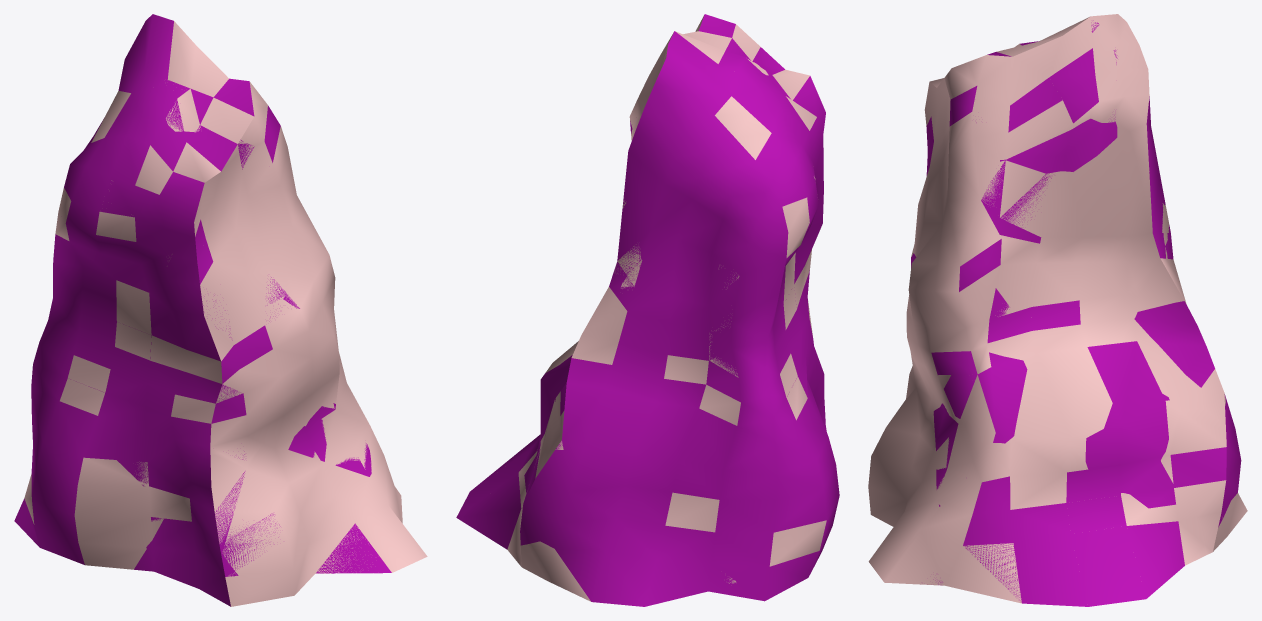
The model's file is Broken-Rock-1.fbx.
3 views of the same model, side by side, from view 1: azimuth 30°, elevation 25°; view 2: azimuth 150°, elevation 25°; view 3: azimuth 270°, elevation 25° (orthographic). The views are drawn at different scales.
Parts seen in each view (by area): view 1: Big-Rock-1, Big-Rock-004-Broken_v_034, Big-Rock-004-Broken_v_064, Big-Rock-004-Broken_v_013, Big-Rock-004-Broken_v_056, Big-Rock-004-Broken_v_012, Big-Rock-004-Broken_v_046, Big-Rock-004-Broken_v_033, Big-Rock-004-Broken_v_036, Big-Rock-004-Broken_v_010, Big-Rock-004-Broken_v_021, Big-Rock-004-Broken_v_031 (+12 smaller); view 2: Big-Rock-1, Big-Rock-004-Broken_v_008, Big-Rock-004-Broken_v_018, Big-Rock-004-Broken_v_013, Big-Rock-004-Broken_v_033, Big-Rock-004-Broken_v_072, Big-Rock-004-Broken_v_062, Big-Rock-004-Broken_v_047, Big-Rock-004-Broken_v_030, Big-Rock-004-Broken_v_063, Big-Rock-004-Broken_v_037, Big-Rock-004-Broken_v_040 (+3 smaller); view 3: Big-Rock-1, Big-Rock-004-Broken_v_035, Big-Rock-004-Broken_v_033, Big-Rock-004-Broken_v_036, Big-Rock-004-Broken_v_001, Big-Rock-004-Broken_v_009, Big-Rock-004-Broken_v_034, Big-Rock-004-Broken_v_023, Big-Rock-004-Broken_v_004, Big-Rock-004-Broken_v_039, Big-Rock-004-Broken_v_012, Big-Rock-004-Broken_v_032 (+25 smaller).
Part boxes in pixels (bbox=[...]): Big-Rock-1: bbox=[14, 14, 391, 606]; Big-Rock-004-Broken_v_034: bbox=[222, 438, 308, 601]; Big-Rock-004-Broken_v_064: bbox=[288, 450, 421, 579]; Big-Rock-004-Broken_v_013: bbox=[24, 457, 164, 569]; Big-Rock-004-Broken_v_056: bbox=[200, 216, 296, 333]; Big-Rock-004-Broken_v_012: bbox=[227, 134, 310, 259]; Big-Rock-004-Broken_v_046: bbox=[228, 299, 313, 418]; Big-Rock-004-Broken_v_033: bbox=[166, 21, 283, 134]; Big-Rock-004-Broken_v_036: bbox=[284, 258, 339, 371]; Big-Rock-004-Broken_v_010: bbox=[172, 331, 269, 418]; Big-Rock-004-Broken_v_021: bbox=[166, 128, 254, 236]; Big-Rock-004-Broken_v_031: bbox=[163, 406, 249, 543]; Big-Rock-1: bbox=[456, 14, 839, 606]; Big-Rock-004-Broken_v_008: bbox=[518, 498, 736, 601]; Big-Rock-004-Broken_v_018: bbox=[665, 355, 803, 425]; Big-Rock-004-Broken_v_013: bbox=[769, 520, 826, 566]; Big-Rock-004-Broken_v_033: bbox=[667, 15, 768, 75]; Big-Rock-004-Broken_v_072: bbox=[571, 329, 619, 364]; Big-Rock-004-Broken_v_062: bbox=[723, 96, 787, 137]; Big-Rock-004-Broken_v_047: bbox=[784, 273, 807, 405]; Big-Rock-004-Broken_v_030: bbox=[603, 259, 670, 356]; Big-Rock-004-Broken_v_063: bbox=[664, 369, 719, 522]; Big-Rock-004-Broken_v_037: bbox=[741, 136, 808, 216]; Big-Rock-004-Broken_v_040: bbox=[785, 211, 809, 257]; Big-Rock-1: bbox=[911, 20, 1241, 606]; Big-Rock-004-Broken_v_035: bbox=[882, 490, 1030, 603]; Big-Rock-004-Broken_v_033: bbox=[967, 15, 1105, 129]; Big-Rock-004-Broken_v_036: bbox=[909, 239, 982, 361]; Big-Rock-004-Broken_v_001: bbox=[968, 160, 1079, 247]; Big-Rock-004-Broken_v_009: bbox=[961, 226, 1074, 342]; Big-Rock-004-Broken_v_034: bbox=[868, 379, 933, 526]; Big-Rock-004-Broken_v_023: bbox=[995, 436, 1088, 507]; Big-Rock-004-Broken_v_004: bbox=[1057, 184, 1134, 264]; Big-Rock-004-Broken_v_039: bbox=[1047, 263, 1137, 347]; Big-Rock-004-Broken_v_012: bbox=[942, 115, 999, 234]; Big-Rock-004-Broken_v_032: bbox=[1014, 369, 1087, 461].
Bounding box in the file's own units: 1029 × 1417 × 987.
